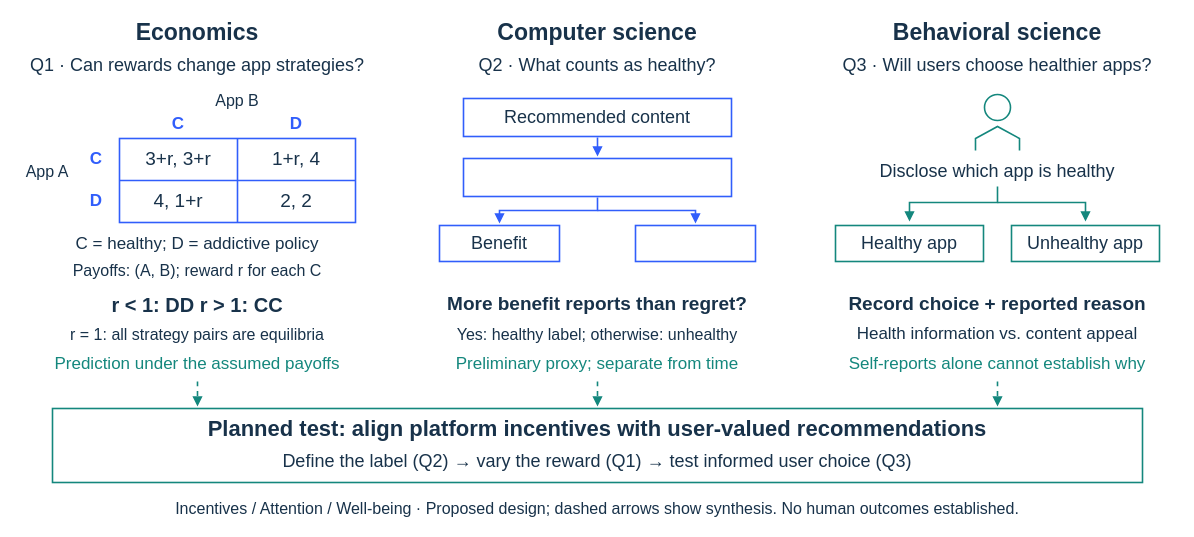
The diagram is 1194 pixels wide and 537 high, and some of its shapes have lost their labels. Here are the shapes that lost their labels. From the top down, the centre of each, then its label:
At (597,177): "User feedback".
At (695,243): "Regret".
